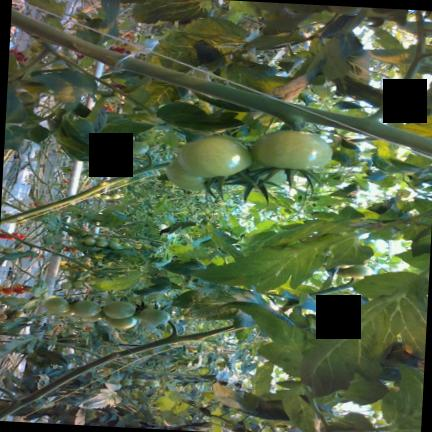6kp_peduncle: (247, 95, 339, 131), (149, 320, 202, 347), (136, 152, 165, 174)
6kp_petiole: (305, 93, 432, 153)
MainStem: (12, 11, 432, 154), (0, 324, 238, 419), (0, 163, 168, 224), (308, 285, 351, 298)
tomato: (251, 130, 332, 169), (177, 136, 252, 177), (231, 162, 286, 200), (165, 160, 206, 190), (103, 301, 134, 319), (70, 300, 101, 317), (139, 309, 169, 325), (43, 297, 70, 314), (105, 316, 136, 329), (345, 265, 373, 277), (130, 141, 148, 155), (336, 268, 351, 278), (82, 314, 101, 321), (108, 241, 121, 249), (145, 380, 159, 387), (58, 311, 74, 317), (133, 379, 146, 386), (94, 240, 107, 247), (14, 286, 25, 294), (72, 280, 84, 287), (3, 247, 17, 253), (82, 239, 95, 245), (60, 282, 71, 289), (12, 310, 23, 317), (67, 265, 79, 271), (3, 288, 13, 295), (120, 379, 131, 385), (110, 194, 120, 199), (84, 279, 94, 284), (60, 264, 68, 270), (133, 244, 142, 249), (99, 195, 110, 199), (176, 315, 184, 320), (79, 267, 87, 272), (0, 313, 6, 319), (122, 243, 130, 247), (92, 193, 100, 197), (60, 261, 66, 265), (0, 286, 3, 292)
